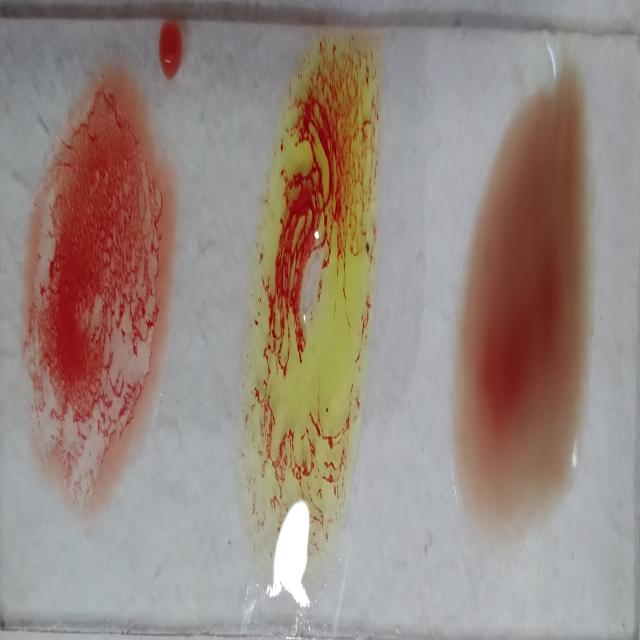B: (245, 28, 377, 566)
D: (26, 59, 164, 515)
